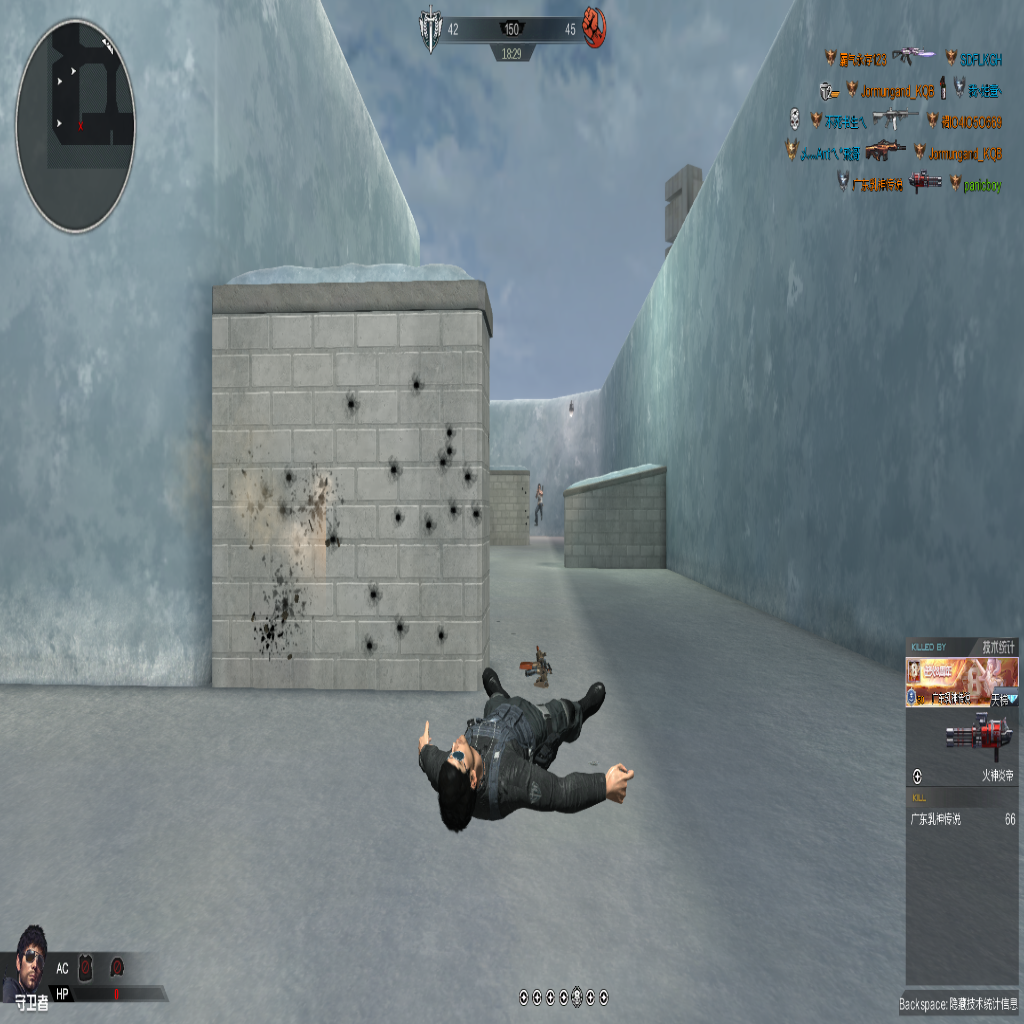tt: (533, 481, 544, 526)
